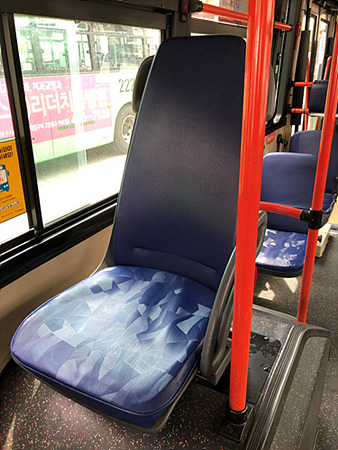seat: (12, 33, 234, 417)
